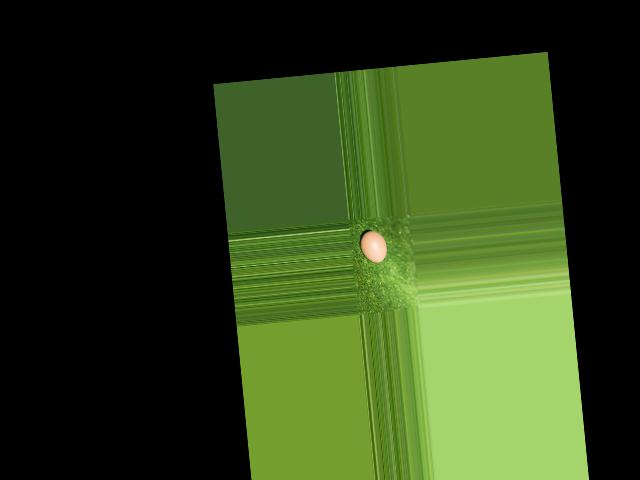egg: (358, 229, 387, 264)
